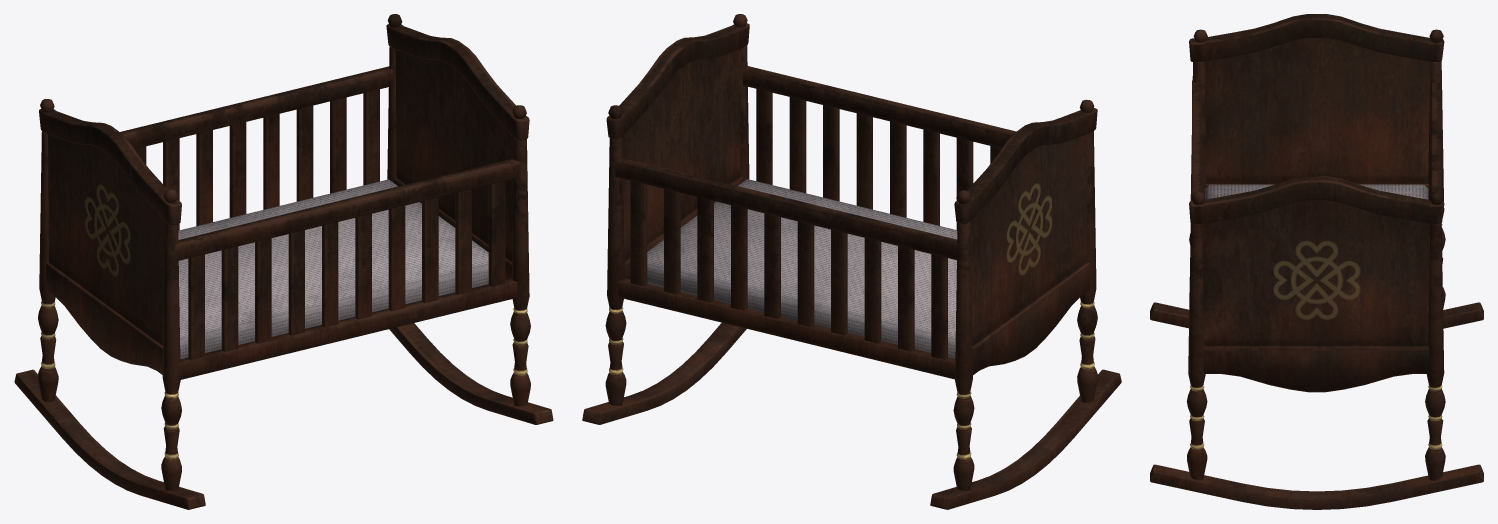
File: old_baby_crib.glb
3 renders of one model, left to right at view 1: azimuth 30°, elevation 25°; view 2: azimuth 150°, elevation 25°; view 3: azimuth 270°, elevation 25°, orthographic. The views are drawn at different scales.
Parts seen in each view (by area): view 1: Crib; view 2: Crib; view 3: Crib.
Boxes of the visible parts, left/top/right/bottom form: Crib: left=14, top=14, right=553, bottom=509; Crib: left=582, top=14, right=1121, bottom=509; Crib: left=1150, top=14, right=1483, bottom=509.
Size of the model in its own units: 2 by 1.79 by 1.65.
1 material, 1 textured.
